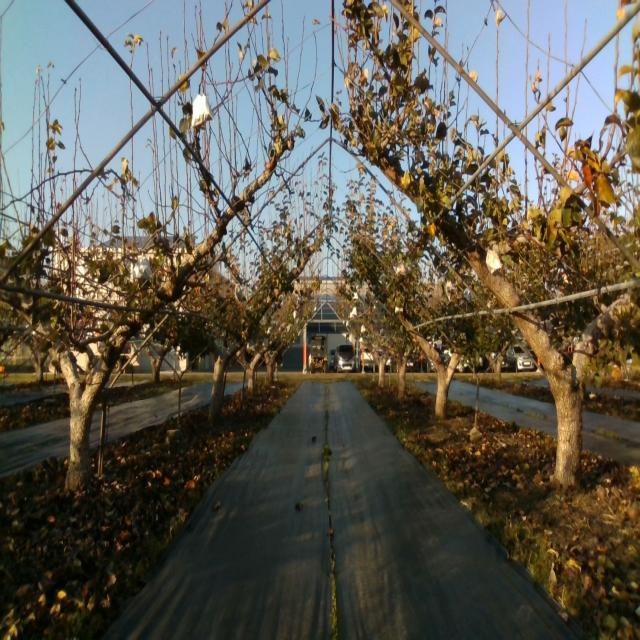pearbags: (191, 94, 214, 130), (485, 244, 502, 275), (132, 257, 153, 279)
